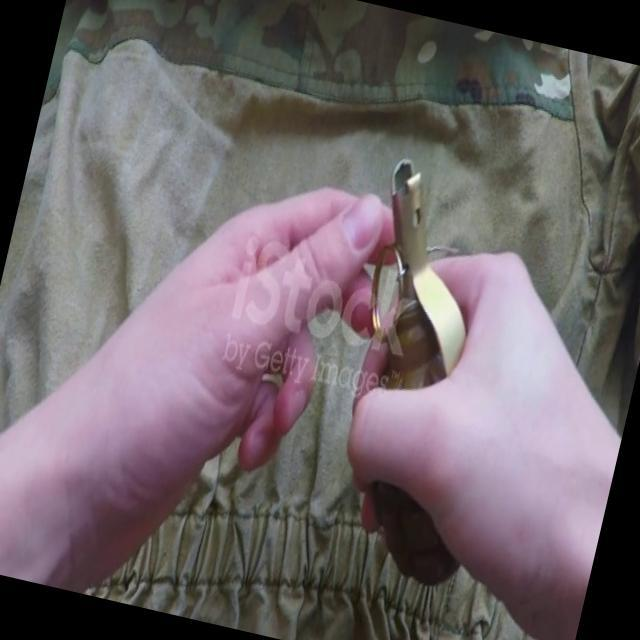grenade: (306, 146, 546, 587)
